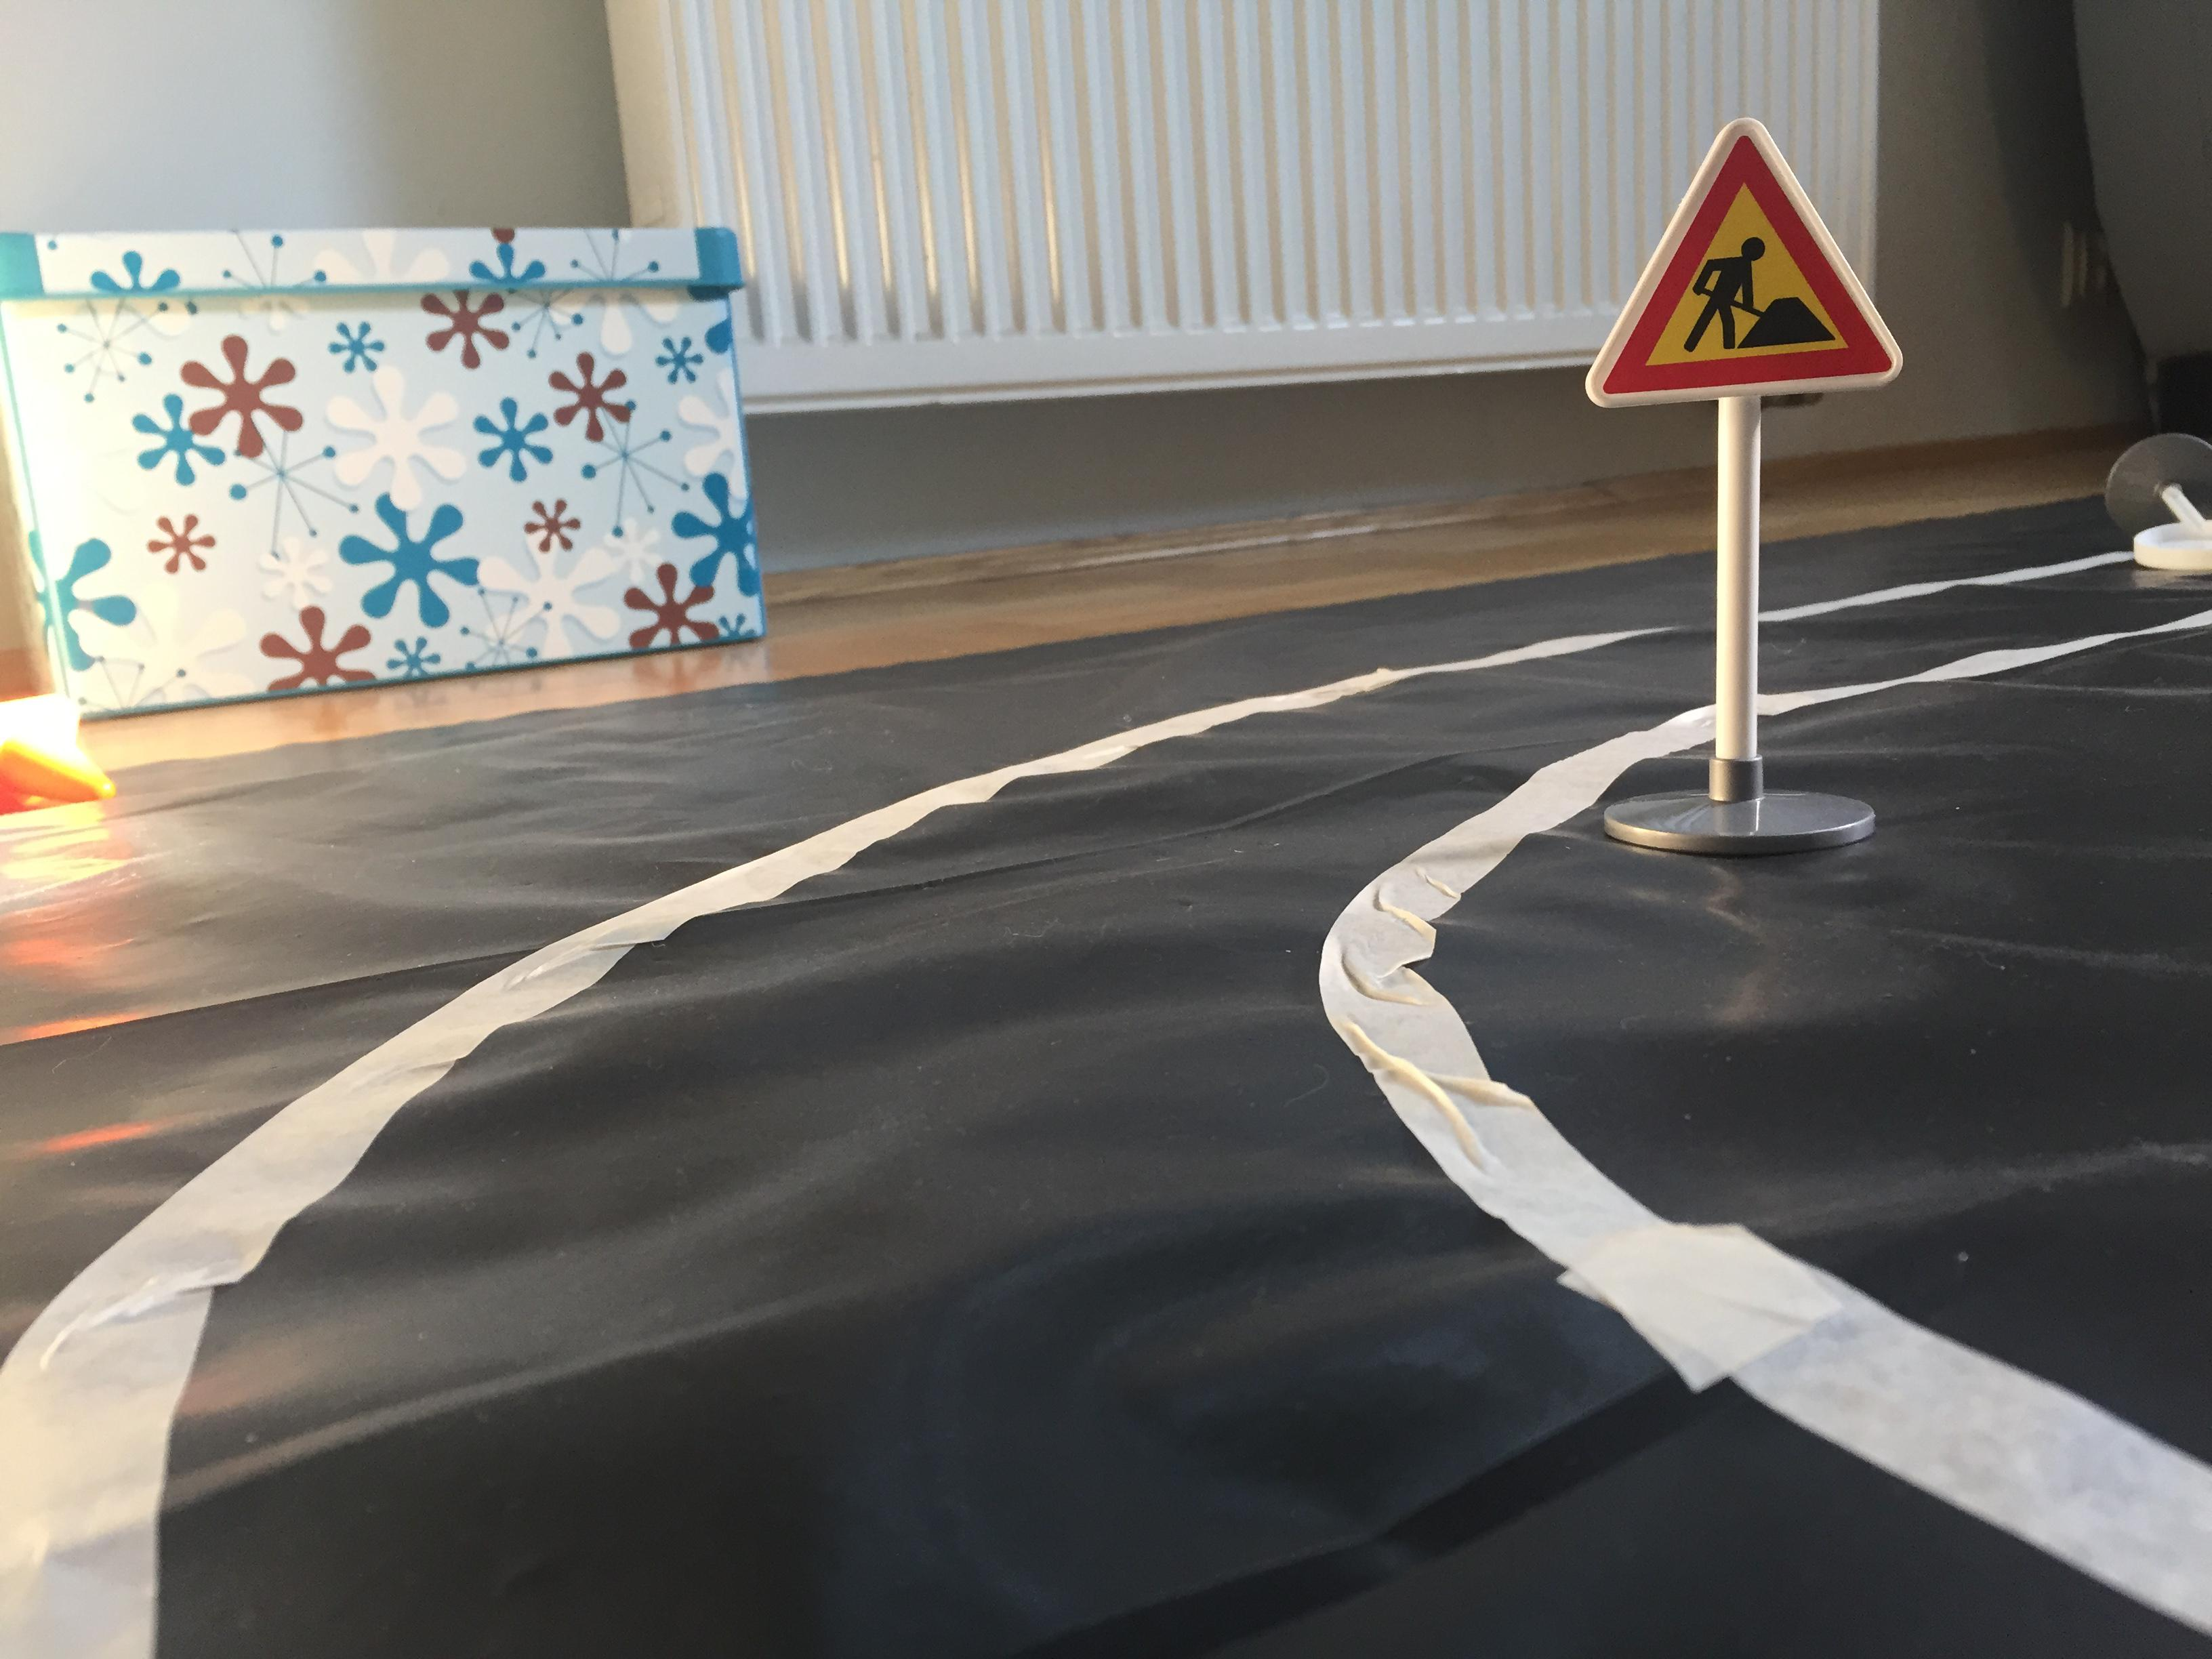work: (1564, 101, 1919, 429)
